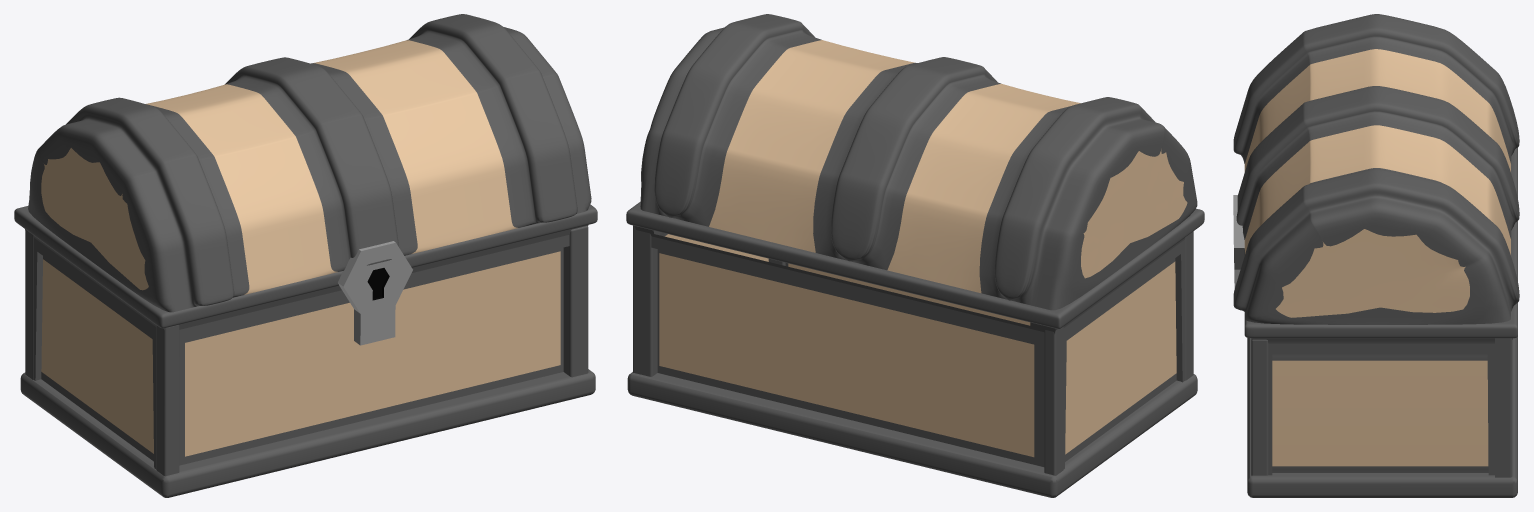
The model's file is Chest_Closed.fbx.
The picture shows the model from 3 angles, left to right: view 1: azimuth 30°, elevation 25°; view 2: azimuth 150°, elevation 25°; view 3: azimuth 270°, elevation 25°; orthographic projection. The views are drawn at different scales.
Parts seen in each view (by area): view 1: Chest_Closed; view 2: Chest_Closed; view 3: Chest_Closed.
Part boxes in pixels (left/top/right/bottom): Chest_Closed: left=14, top=14, right=597, bottom=497; Chest_Closed: left=626, top=14, right=1204, bottom=497; Chest_Closed: left=1233, top=14, right=1519, bottom=497.
Bounding box in the file's own units: 7.27 × 5.18 × 4.43.
